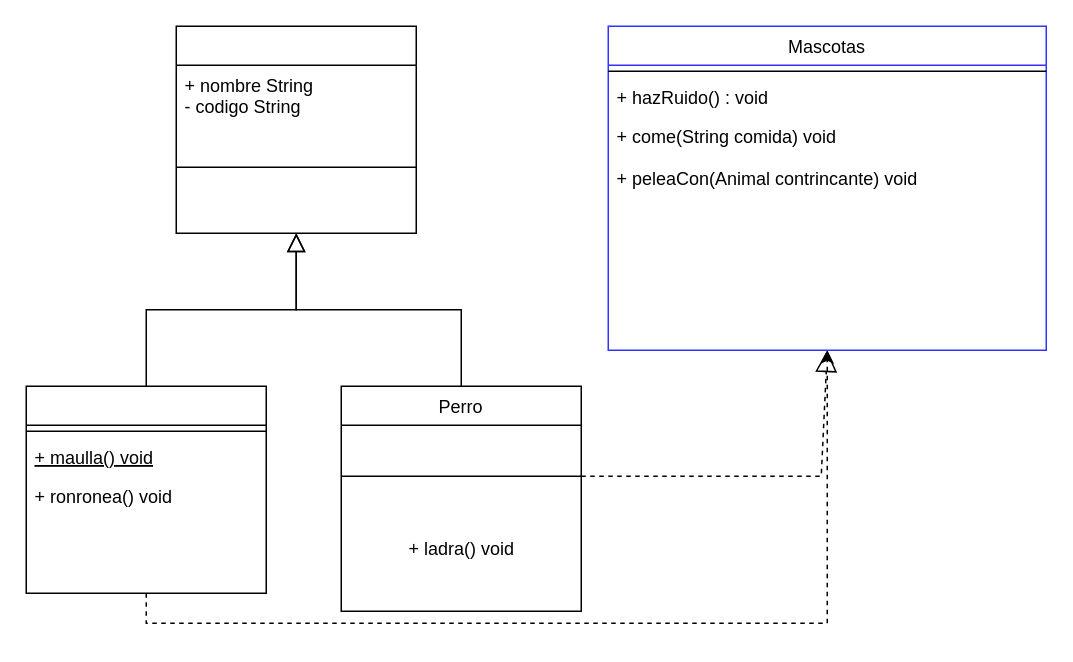
Image size: 1073x662. Some labels were removed from this diagram. Here are the shapes that lost their labels. From the top down, the box of each, then its label:
(175, 25, 416, 233): Animal
(25, 385, 266, 593): Gato
